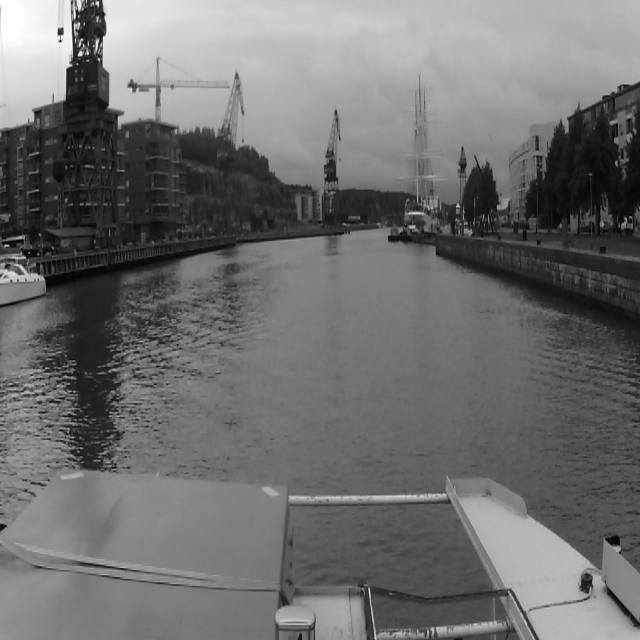ship: (397, 77, 449, 223), (4, 249, 46, 304), (388, 225, 400, 242), (401, 226, 409, 242)
